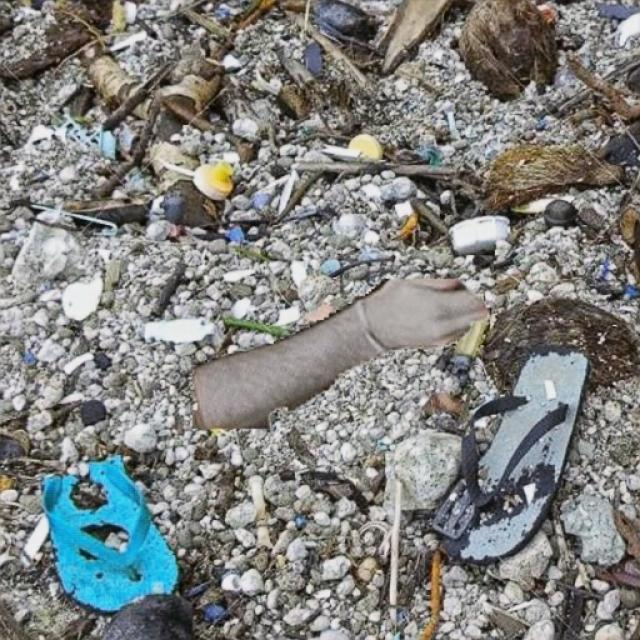Person in Rubble: (192, 278, 490, 428)
